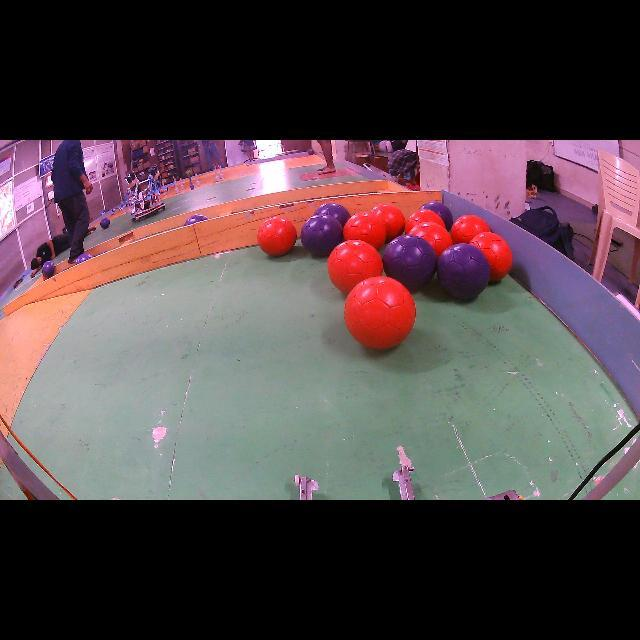P: (382, 234, 436, 290), (438, 244, 490, 299), (300, 214, 342, 256), (420, 201, 452, 231), (314, 202, 350, 228), (184, 214, 209, 226), (41, 260, 55, 278), (75, 252, 92, 264), (100, 218, 110, 229)
R: (345, 276, 416, 349), (328, 240, 382, 294), (469, 231, 512, 282), (344, 212, 386, 250), (409, 221, 452, 257), (258, 218, 298, 256), (371, 204, 405, 241), (451, 215, 491, 244), (405, 210, 445, 234)
